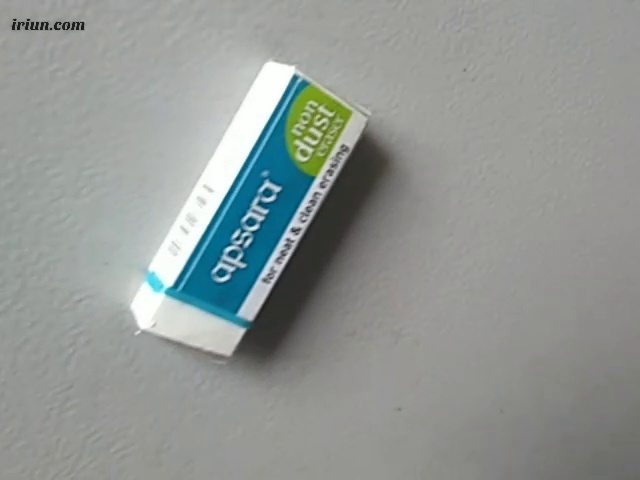Eraser: (128, 56, 374, 363)
